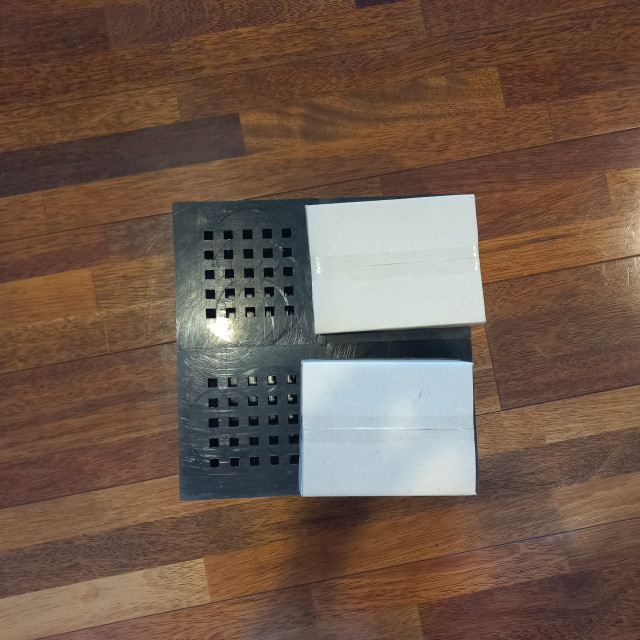box: (302, 191, 488, 337), (296, 355, 480, 499)
